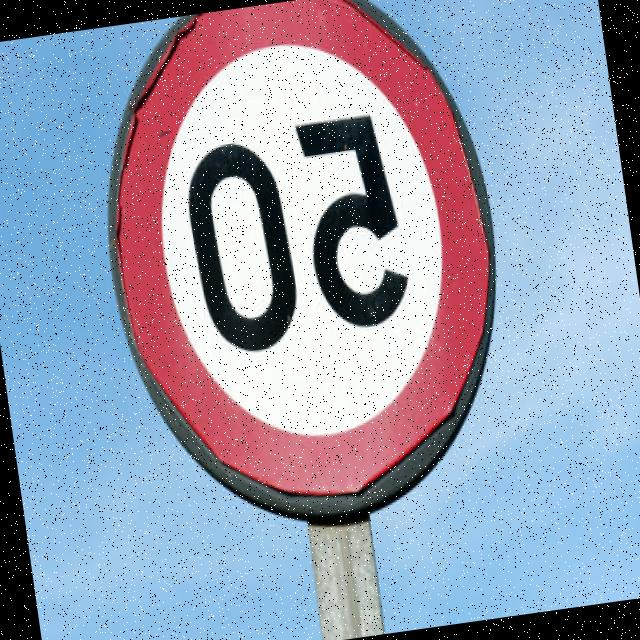speed_limit_50: (75, 0, 542, 543)
